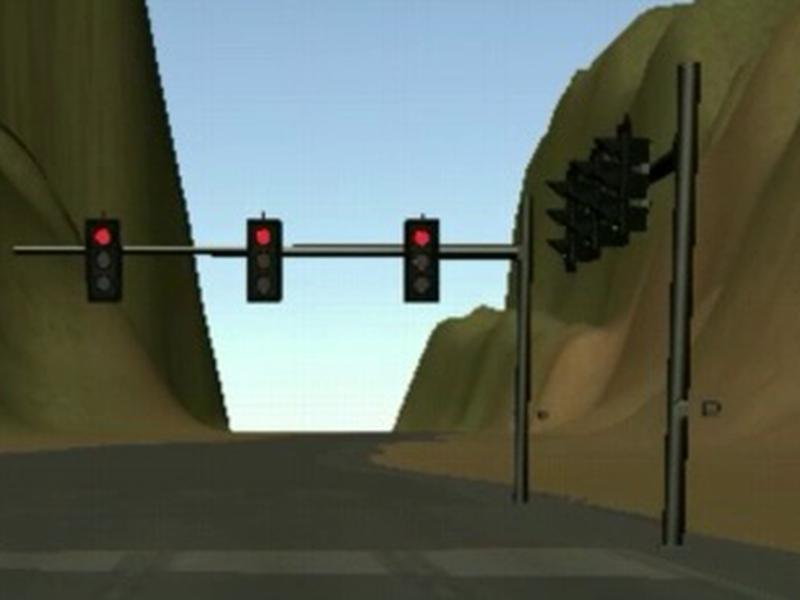Red: (245, 218, 282, 302), (403, 219, 440, 302), (85, 219, 121, 303)
